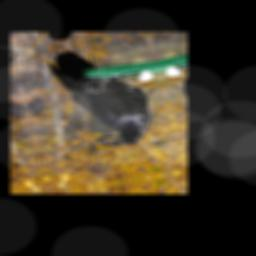Crow: (46, 39, 160, 153)
